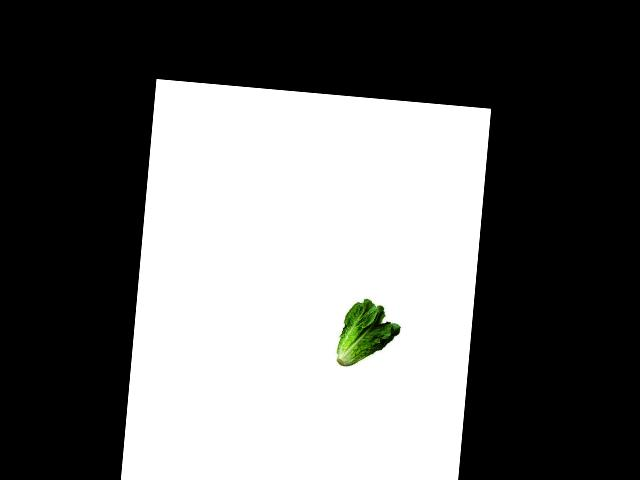lettuce: (332, 296, 406, 369)
